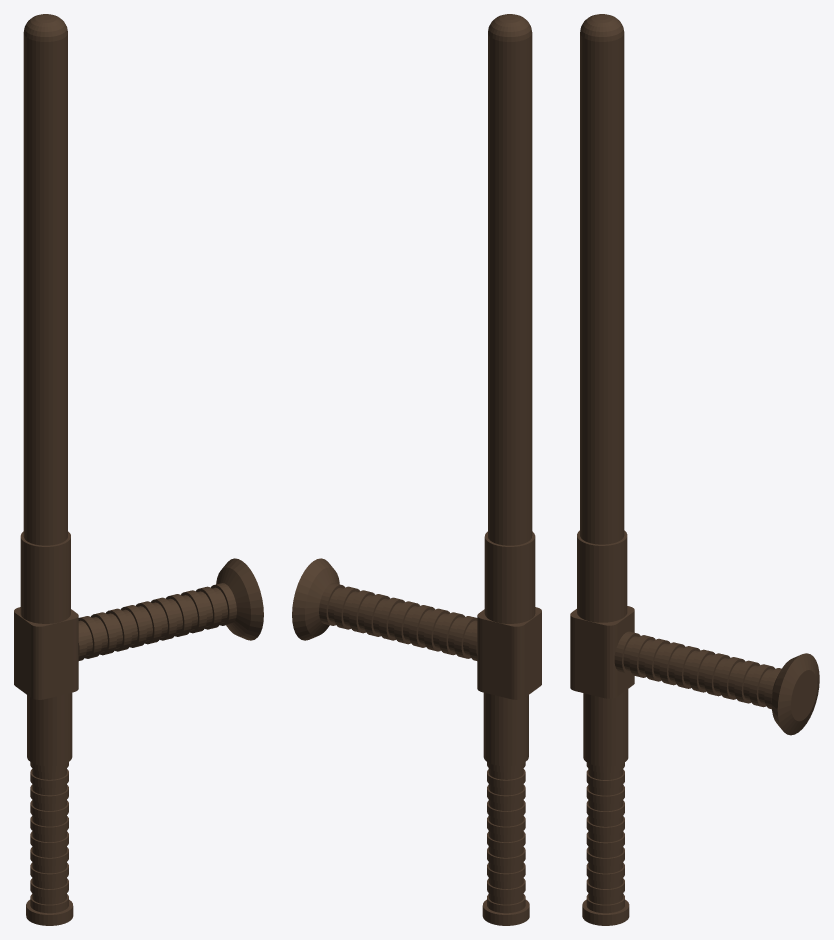
File: cop.fbx
The picture shows the model from 3 angles, left to right: view 1: azimuth 30°, elevation 25°; view 2: azimuth 150°, elevation 25°; view 3: azimuth 330°, elevation 25°; orthographic projection.
Parts seen in each view (by area): view 1: Cylinder.001; view 2: Cylinder.001; view 3: Cylinder.001.
Part boxes in pixels (x1,y1,x2,y2): Cylinder.001: [14, 14, 263, 925]; Cylinder.001: [292, 14, 541, 925]; Cylinder.001: [570, 14, 819, 925].
Bounding box in the file's own units: 149 × 570 × 48.33.
